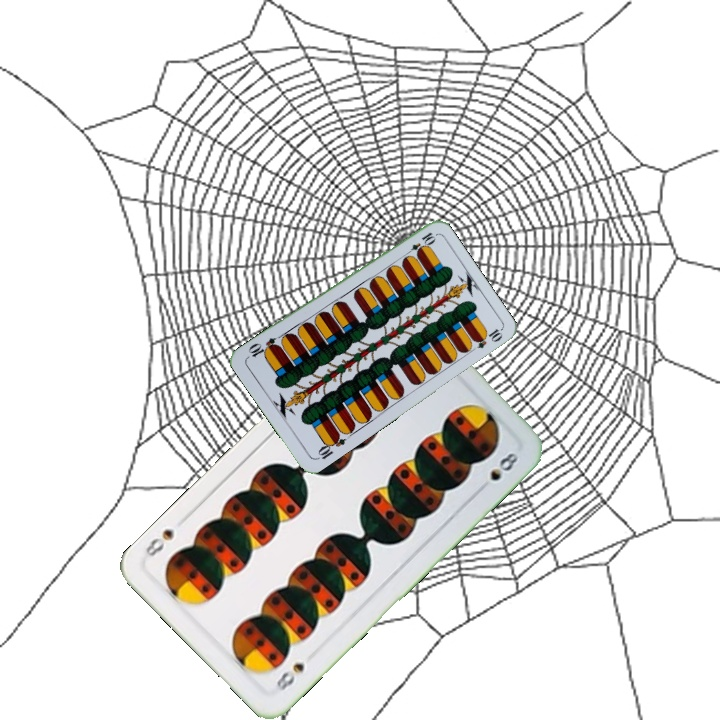E10: (312, 429, 348, 462), (401, 228, 438, 259)
S8: (272, 658, 307, 694)
